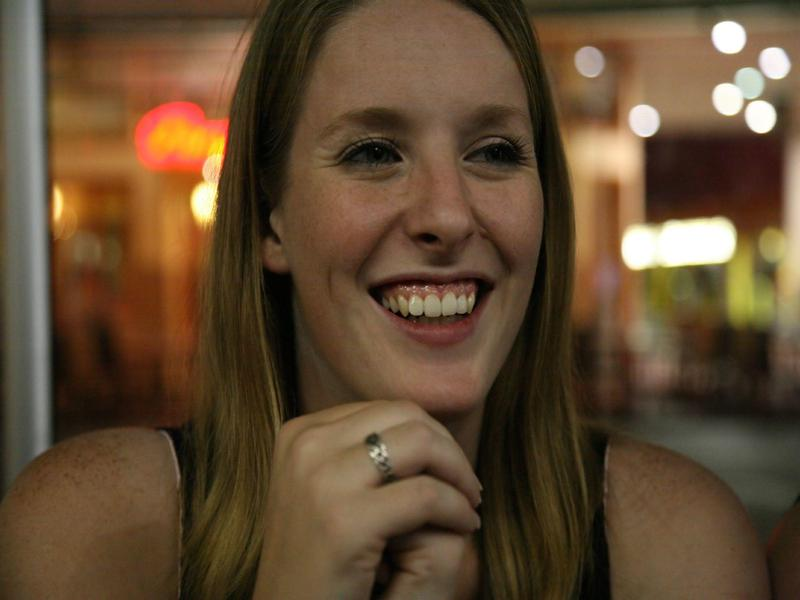person: (1, 3, 778, 597)
